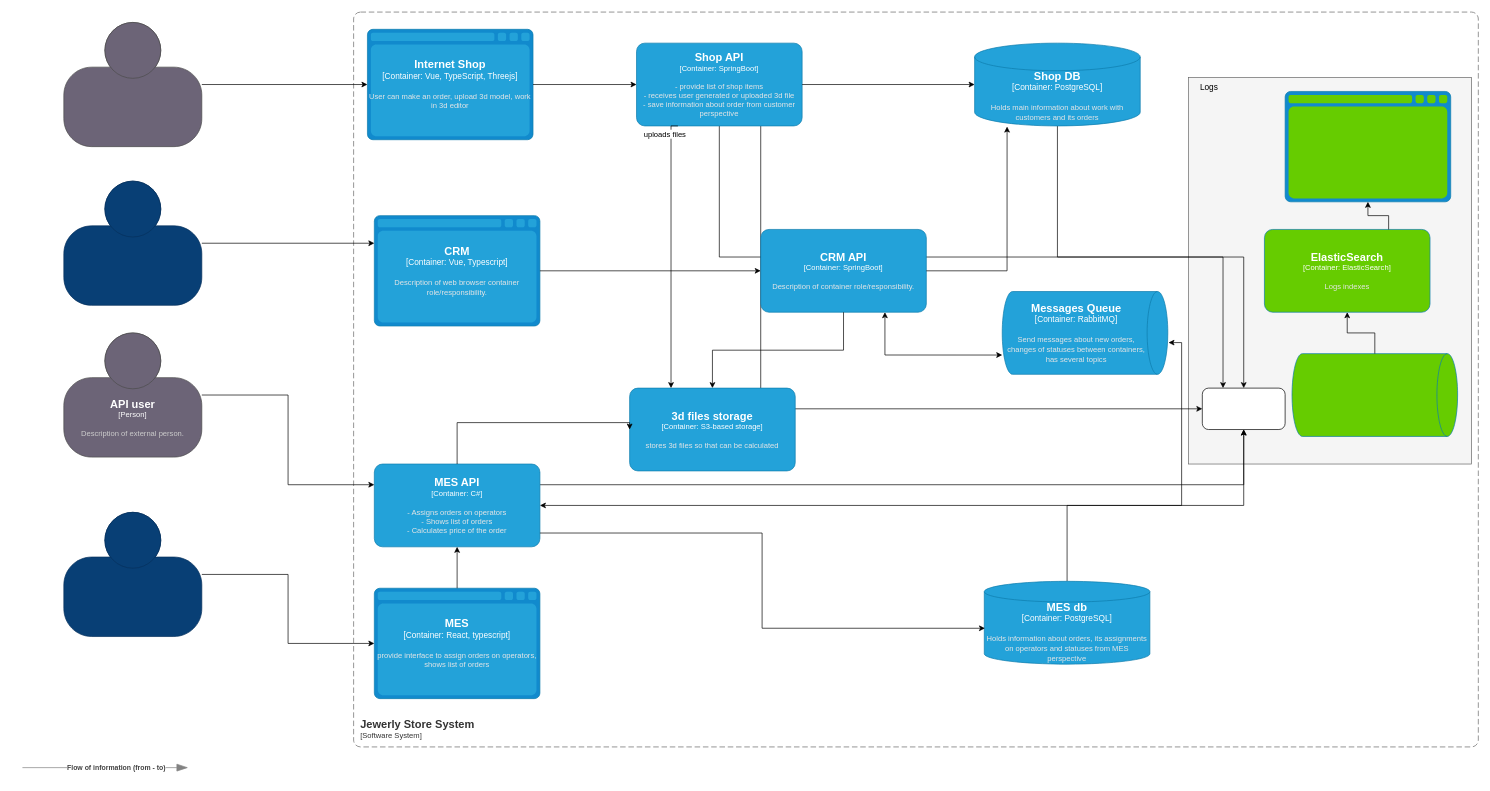
Some shapes in this 1490 by 791 pixel diagram are drawn without their labels. The shapes that lost their labels are listed below. From the top down, each one's box as (x1, y1, x2, y2) in pixels, then its label:
(63, 22, 202, 147): Customer [Person] Description of external person.
(1284, 91, 1451, 202): Kibana [Container: ] Logs dashboard
(63, 180, 202, 305): Seller [Person] Operates with order, confirms manufacturing for the user
(1202, 387, 1285, 430): Fluent Bit чтение JSON из stdout контейнеров
(1291, 353, 1458, 436): Logs Queue [Container: RabbitMQ] Send logs messages from containers to ELK stack
(63, 512, 202, 637): Operator [Person] Takes order in work, manufactures jewerly
